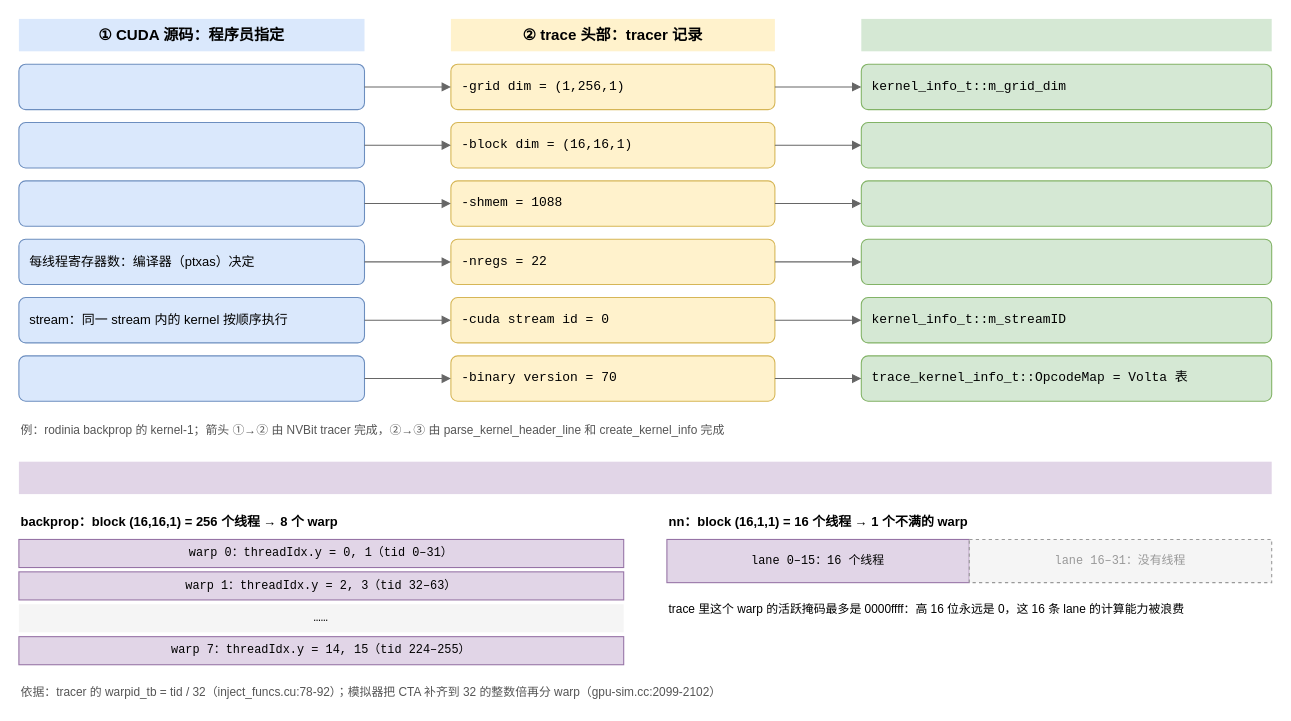
This 1291x721 diagram has some shape labels left out. Here are the shapes that lost their labels. From the top down, the centre of each, then its label:
At (x=1066, y=34): "③ 模拟器：解析后存放在".
At (x=191, y=86): "grid 维度：kernel<<< grid , block, shmem, stream>>>".
At (x=191, y=145): "block 维度：每个 CTA 的线程排布".
At (x=1066, y=145): "kernel_info_t::m_block_dim".
At (x=191, y=203): "shared memory：__shared__ 数组 + 动态字节数".
At (x=1066, y=203): "trace_function_info ← gpgpu_ptx_sim_info.smem".
At (x=1066, y=261): "trace_function_info ← gpgpu_ptx_sim_info.regs".
At (x=191, y=378): "编译目标架构：nvcc -arch=sm_70".
At (x=644, y=477): "④ 一个 CTA 怎样切成 warp：线性编号 tid = x + bx·y + bx·by·z（x 变化最快），warp 编号 = tid / 32".
